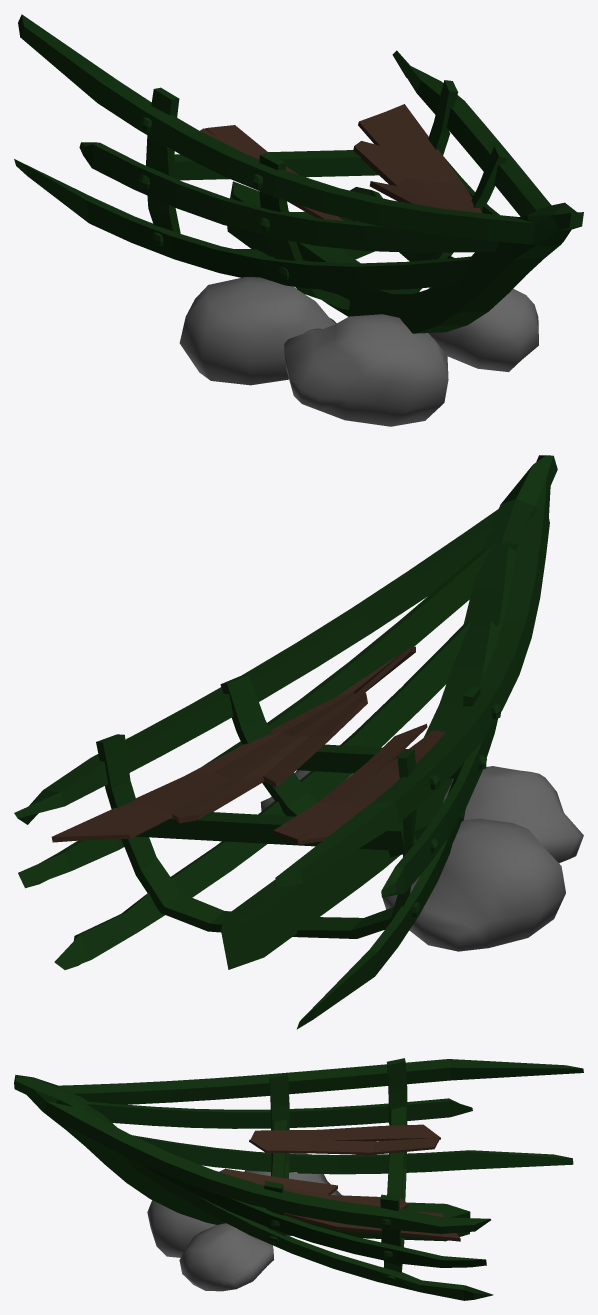
File: Shipwreck.fbx
The picture shows the model from 3 angles, top to bottom: view 1: azimuth 30°, elevation 25°; view 2: azimuth 150°, elevation 25°; view 3: azimuth 270°, elevation 25°; orthographic projection. The views are drawn at different scales.
Parts seen in each view (by area): view 1: Cube.003; view 2: Cube.003; view 3: Cube.003.
Part boxes in pixels (x1,y1,x2,y2): Cube.003: (14, 14, 583, 426); Cube.003: (14, 455, 583, 1029); Cube.003: (14, 1058, 583, 1300).
Size of the model in its own units: 275 by 202 by 531.
